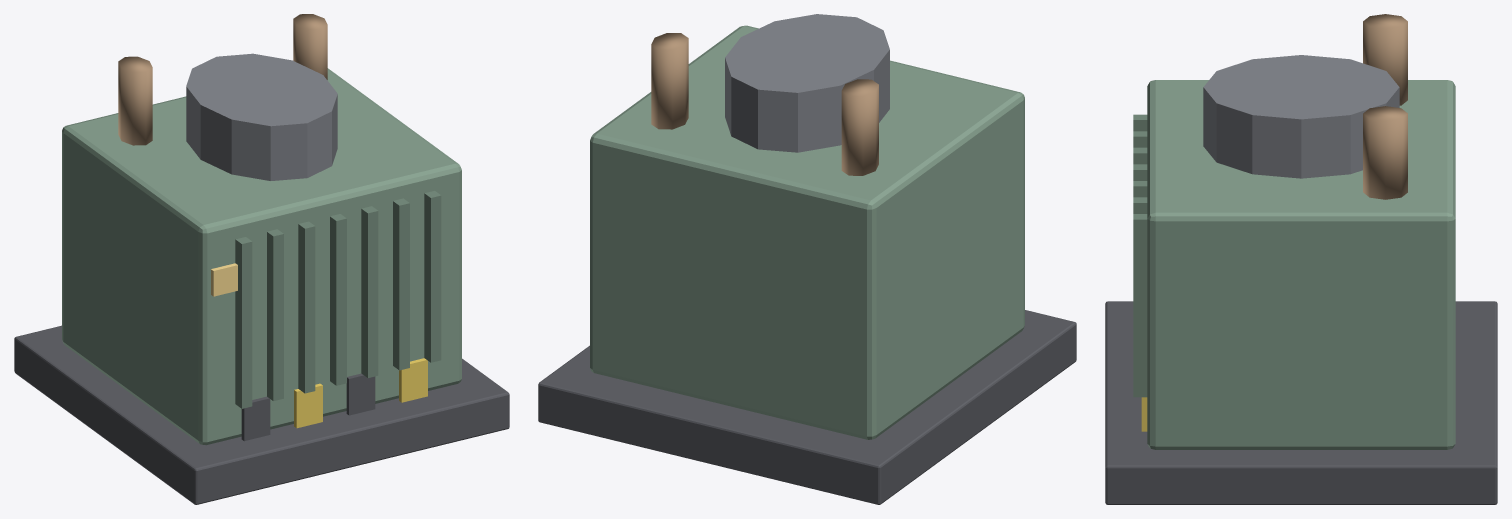
File: prop_generator.fbx
The picture shows the model from 3 angles, left to right: view 1: azimuth 30°, elevation 25°; view 2: azimuth 150°, elevation 25°; view 3: azimuth 270°, elevation 25°; orthographic projection. The views are drawn at different scales.
Parts seen in each view (by area): view 1: prop_generator; view 2: prop_generator; view 3: prop_generator.
Part boxes in pixels (x1,y1,x2,y2): prop_generator: [14, 14, 509, 504]; prop_generator: [538, 14, 1076, 504]; prop_generator: [1105, 14, 1497, 504].
Size of the model in its own units: 1 by 1 by 1.
